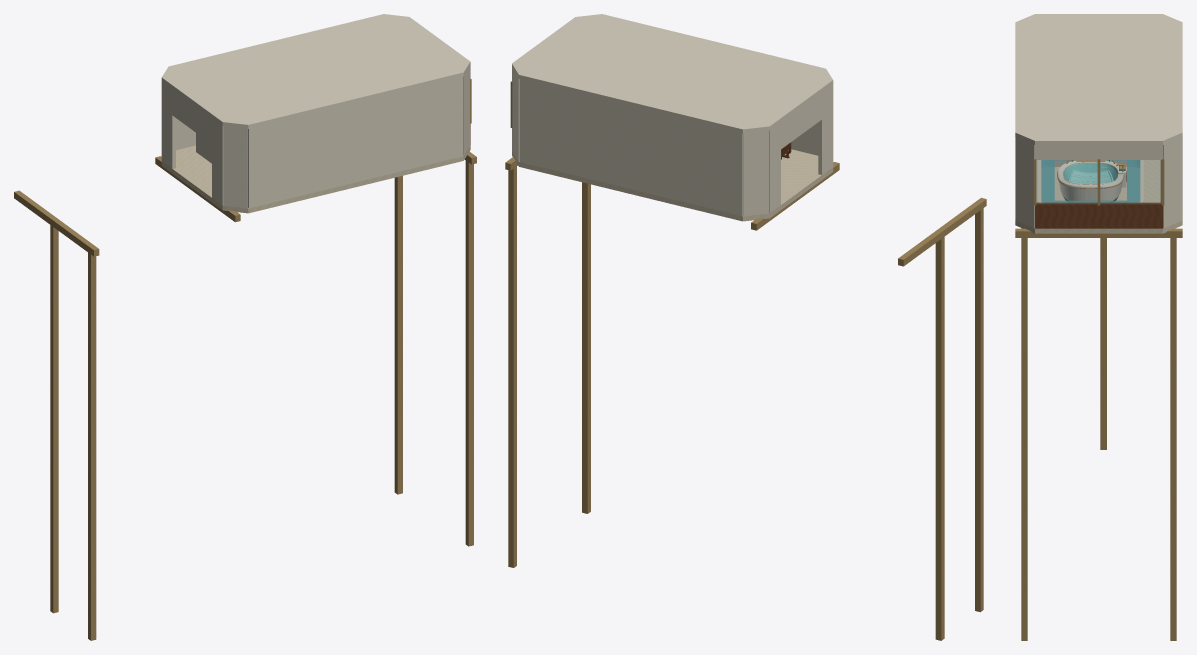
Rendered from D04_PORT_CENTRAL_HOME_941_r001.glb.
The picture shows the model from 3 angles, left to right: view 1: azimuth 30°, elevation 25°; view 2: azimuth 150°, elevation 25°; view 3: azimuth 270°, elevation 25°; orthographic projection. The views are drawn at different scales.
Visible parts, largest first — view 1: PC941_D04H940_Roof, PC941_D04H940_Shell_3, PC941_D04H940_Pier_6, PC941_D04H940_Pier_5, PC941_D04H940_Pier_8, PC941_D04H940_Floor, PC941_D04H940_Pier_7, PC941_D04H940_Shell_2, PC941_D04H940_EntryWall_0, PC941_D04H940_EntryHeader, PC941_D04H940_ClearSupportLong, PC941_D04H940_EntryWall_1; view 2: PC941_D04H940_Roof, PC941_D04H940_Shell_7, PC941_D04H940_Pier_5, PC941_D04H940_Pier_6, PC941_D04H940_Pier_7, PC941_D04H940_Floor, PC941_D04H940_Pier_8, PC941_D04H940_Shell_0, PC941_D04H940_EntryWall_1, PC941_D04H940_EntryHeader, PC941_D04H940_ClearSupportLong, PC941_D04H940_EntryWall_0 (+1 smaller); view 3: PC941_D04H940_Roof, PC941_D04H940_GardenGlass, PC941_D04H940_GardenDado, PC941_D04H940_Pier_8, PC941_D04H940_Pier_7, PC941_D04H940_Floor, PC941_D04H940_GardenHead, PC941_ReservedAquaticRest__Hollow continuous basin shell wit, PC941_D04H940_Shell_4, PC941_D04H940_Shell_6, PC941_D04H940_Pier_5, PC941_D04H940_Water_0 (+4 smaller).
Boxes of the visible parts, left/top/right/bottom form: PC941_D04H940_Roof: left=161, top=14, right=470, bottom=128; PC941_D04H940_Shell_3: left=248, top=76, right=462, bottom=208; PC941_D04H940_Pier_6: left=88, top=245, right=96, bottom=640; PC941_D04H940_Pier_5: left=50, top=217, right=58, bottom=613; PC941_D04H940_Pier_8: left=465, top=155, right=473, bottom=546; PC941_D04H940_Floor: left=161, top=145, right=470, bottom=213; PC941_D04H940_Pier_7: left=394, top=176, right=402, bottom=494; PC941_D04H940_Shell_2: left=223, top=126, right=247, bottom=208; PC941_D04H940_EntryWall_0: left=161, top=82, right=175, bottom=168; PC941_D04H940_EntryHeader: left=172, top=89, right=211, bottom=143; PC941_D04H940_ClearSupportLong: left=14, top=190, right=99, bottom=256; PC941_D04H940_EntryWall_1: left=212, top=118, right=223, bottom=205; PC941_D04H940_Roof: left=512, top=14, right=833, bottom=133; PC941_D04H940_Shell_7: left=519, top=79, right=743, bottom=215; PC941_D04H940_Pier_5: left=935, top=229, right=944, bottom=640; PC941_D04H940_Pier_6: left=975, top=200, right=983, bottom=612; PC941_D04H940_Pier_7: left=508, top=159, right=516, bottom=567; PC941_D04H940_Floor: left=512, top=149, right=833, bottom=221; PC941_D04H940_Pier_8: left=582, top=182, right=590, bottom=513; PC941_D04H940_Shell_0: left=743, top=130, right=768, bottom=216; PC941_D04H940_EntryWall_1: left=818, top=84, right=833, bottom=174; PC941_D04H940_EntryHeader: left=781, top=92, right=821, bottom=149; PC941_D04H940_ClearSupportLong: left=898, top=197, right=986, bottom=266; PC941_D04H940_EntryWall_0: left=769, top=122, right=780, bottom=213; PC941_D04H940_Roof: left=1015, top=14, right=1182, bottom=144; PC941_D04H940_GardenGlass: left=1037, top=160, right=1160, bottom=203; PC941_D04H940_GardenDado: left=1035, top=202, right=1162, bottom=228; PC941_D04H940_Pier_8: left=1021, top=228, right=1027, bottom=640; PC941_D04H940_Pier_7: left=1170, top=228, right=1176, bottom=640; PC941_D04H940_Floor: left=1015, top=160, right=1182, bottom=233; PC941_D04H940_GardenHead: left=1035, top=145, right=1162, bottom=159; PC941_ReservedAquaticRest__Hollow continuous basin shell wit: left=1058, top=160, right=1123, bottom=200; PC941_D04H940_Shell_4: left=1015, top=137, right=1037, bottom=228; PC941_D04H940_Shell_6: left=1160, top=137, right=1182, bottom=228; PC941_D04H940_Pier_5: left=1100, top=238, right=1106, bottom=449; PC941_D04H940_Water_0: left=1041, top=160, right=1140, bottom=202.
Bounding box in the file's own units: 20.11 × 23.89 × 7.2.
Materials: 40 (21 with a texture image).
